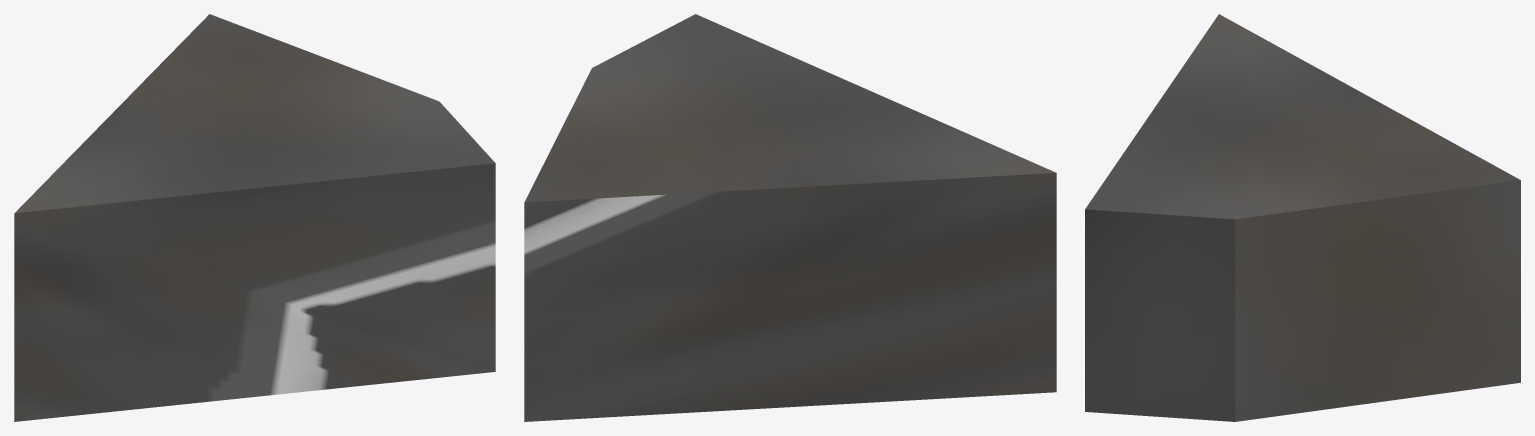
Rendered from ishi_01_7_3.fbx.
3 renders of one model, left to right at view 1: azimuth 30°, elevation 25°; view 2: azimuth 150°, elevation 25°; view 3: azimuth 270°, elevation 25°, orthographic. The views are drawn at different scales.
Visible parts, largest first — view 1: polySurface10; view 2: polySurface10; view 3: polySurface10.
Boxes of the visible parts, x1,y1,x2,y2 form: polySurface10: (14,14,495,421); polySurface10: (524,14,1056,421); polySurface10: (1085,14,1520,421).
Bounding box in the file's own units: 10.13 × 4.66 × 9.08.
Materials: 1 (1 with a texture image).
